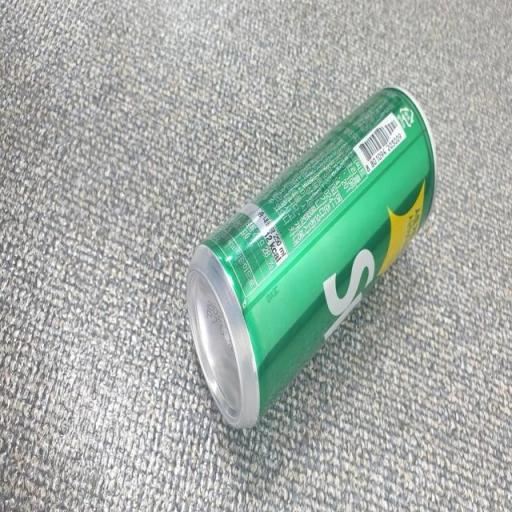metal: (172, 78, 446, 442)
